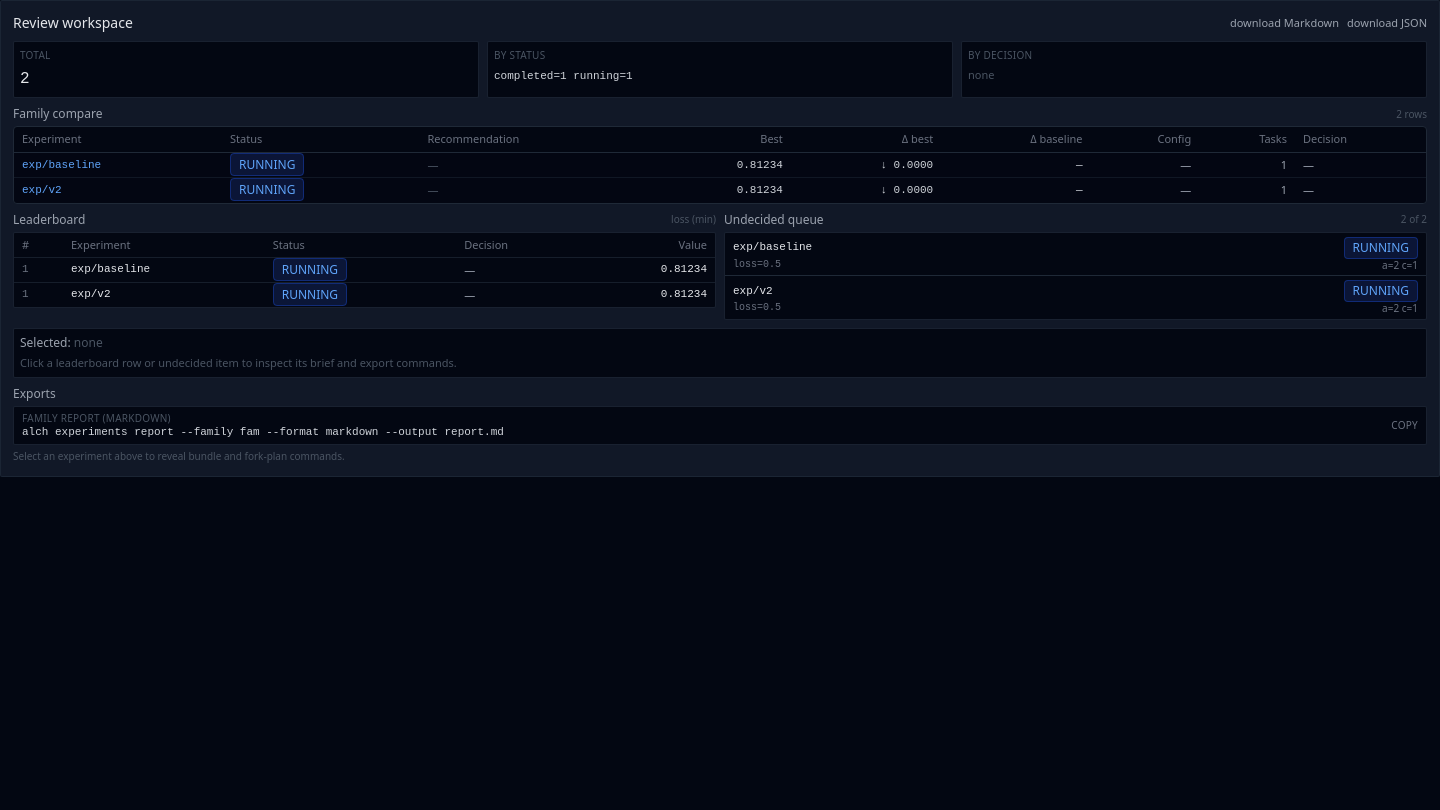
ExperimentReviewWorkspace component › shows the family compare board and allows selecting an experiment from it
Expected: the heading "Family compare" is shown, [13,106,102,122]
Click the button with aria-label "select exp/v2 for family compare" at point(267, 190), box [14,178,1426,202]
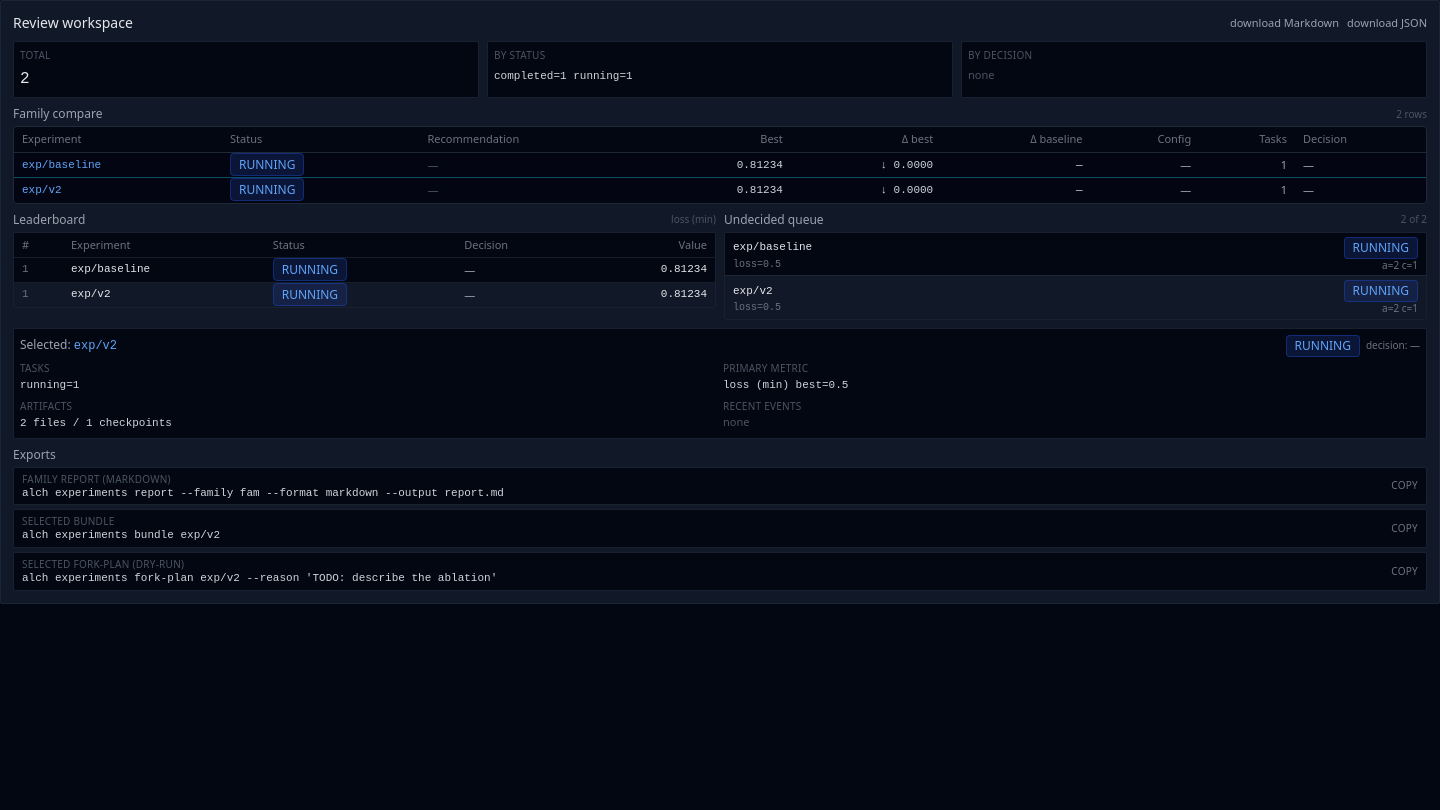
Expected: the link "exp/v2" below "Family compare" is shown, [22,184,62,196]
Now the text "alch experiments bundle exp/v2" is shown, box [22,529,220,541]
Now the text "alch experiments fork-plan exp/v2 --reason 'TODO: describe the ablation'" is shown, box [22,572,497,584]
